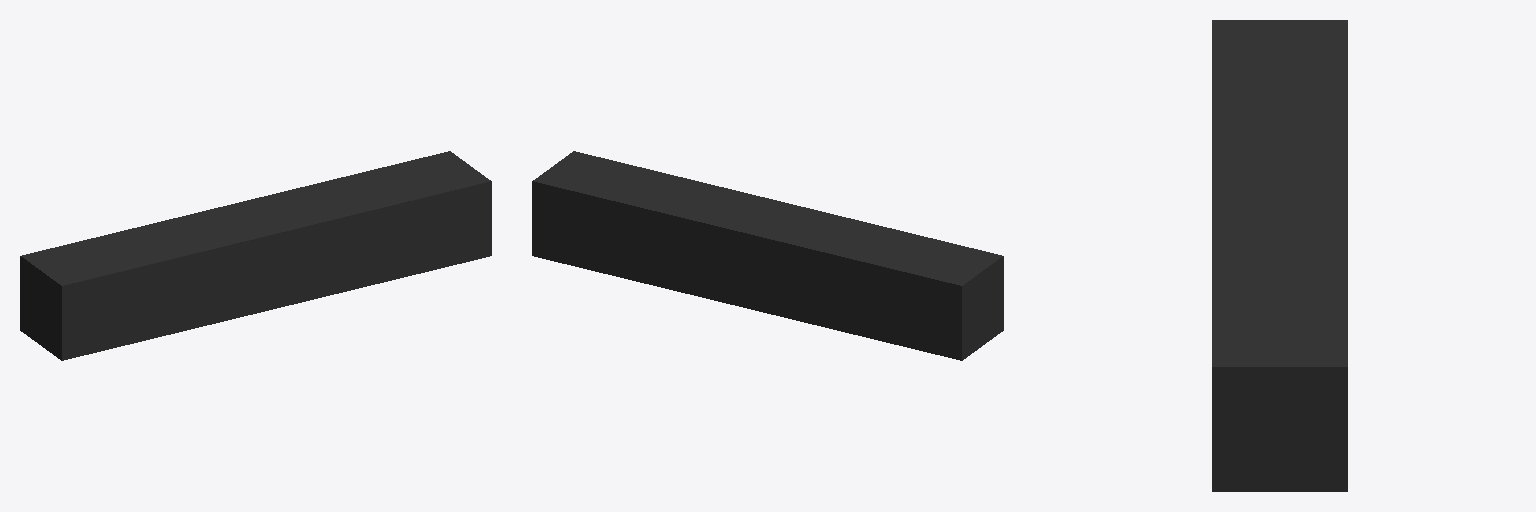
robot.urdf — wall:
<robot name="wall">
  <link name="baseLink">
   
    <inertial>
      <origin rpy="0 0 0" xyz="0 0 0" />
       <mass value="1000.0" />
       <inertia ixx="0" ixy="0" ixz="0" iyy="0" iyz="0" izz="0" />
    </inertial>
    <visual>
      <origin rpy="0 0 0" xyz="0 0 0" />
      <geometry>
			  <box size="6 1 1" />
      </geometry>
       <material name="grey">
        <color rgba="0.24 0.24 0.24 1" />
      </material>
    </visual>
    <collision>
      <origin rpy="0 0 0" xyz="0 0 0" />
      <geometry>
	 	      <box size="6 1 1" />
      </geometry>
    </collision>
  </link>
</robot>

--- Facts derived from the render (not from the file) ---
Views: 3 orthographic renders of the robot side by side, from view 1: azimuth 30°, elevation 25°; view 2: azimuth 150°, elevation 25°; view 3: azimuth 270°, elevation 25°.
Robot: wall — 1 links, 0 joints (none); root link baseLink; default pose: all joints at 0.
Visible links, largest first — view 1: baseLink; view 2: baseLink; view 3: baseLink.
Boxes of the visible links, <box> form: baseLink: <box>20,151,491,360</box>; baseLink: <box>532,151,1003,360</box>; baseLink: <box>1212,20,1347,491</box>.
Size in the robot's own frame: 6 by 1 by 1 metres.
Geometry: primitives only (box / cylinder / sphere), no mesh files.